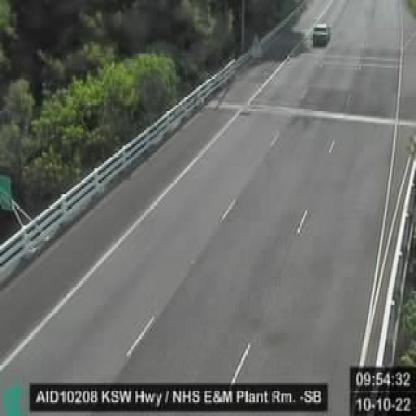Car: (312, 21, 332, 46)
